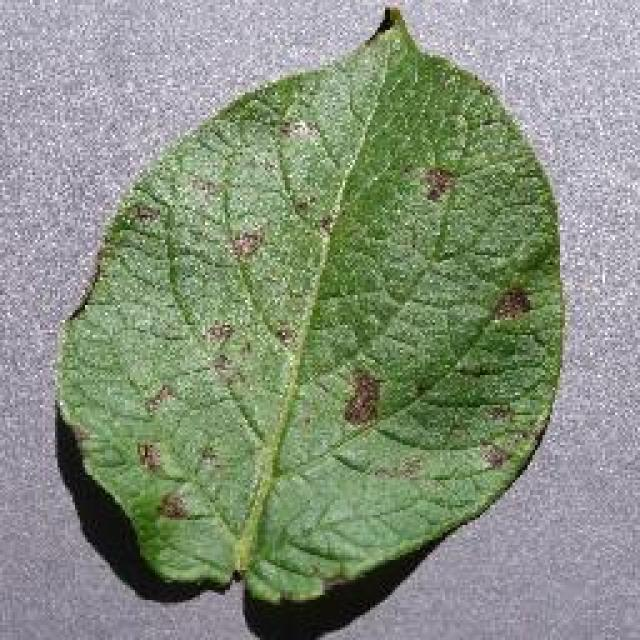early_blight: (50, 2, 568, 610)
